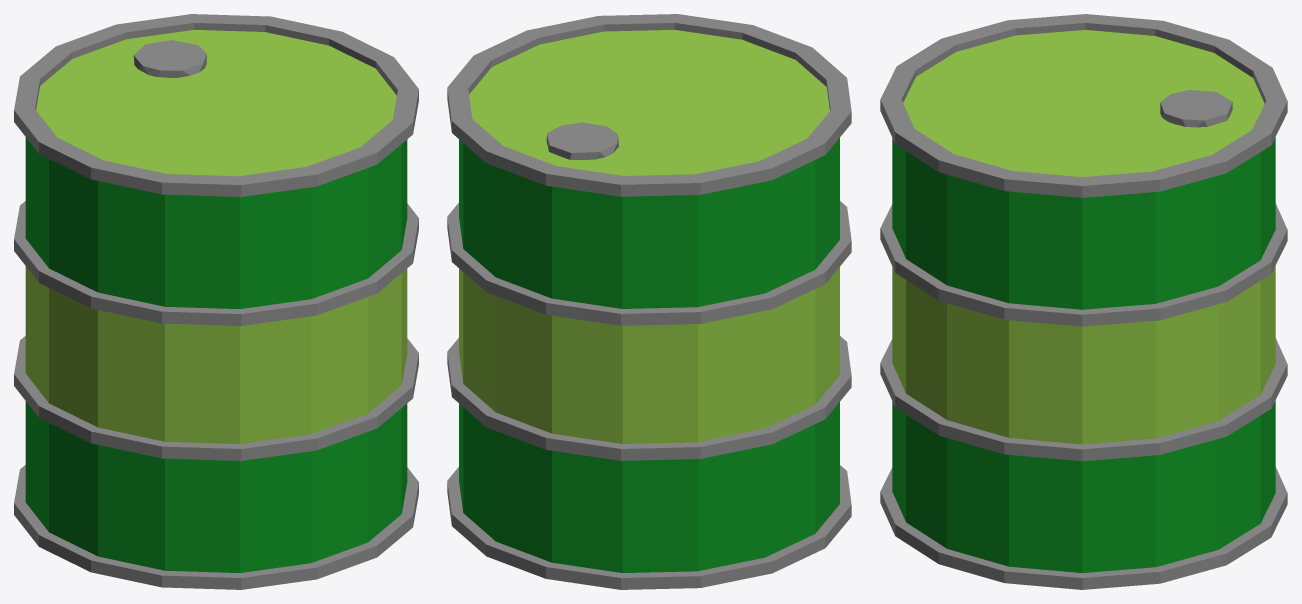
The model's file is Barrel_1_1.fbx.
3 renders of one model, left to right at view 1: azimuth 30°, elevation 25°; view 2: azimuth 150°, elevation 25°; view 3: azimuth 270°, elevation 25°, orthographic.
Parts seen in each view (by area): view 1: Barrel_1_1; view 2: Barrel_1_1; view 3: Barrel_1_1.
Boxes of the visible parts, x1,y1,x2,y2 form: Barrel_1_1: [14, 14, 418, 589]; Barrel_1_1: [447, 14, 851, 589]; Barrel_1_1: [880, 14, 1287, 589].
Size of the model in its own units: 78.54 by 86 by 78.54.
